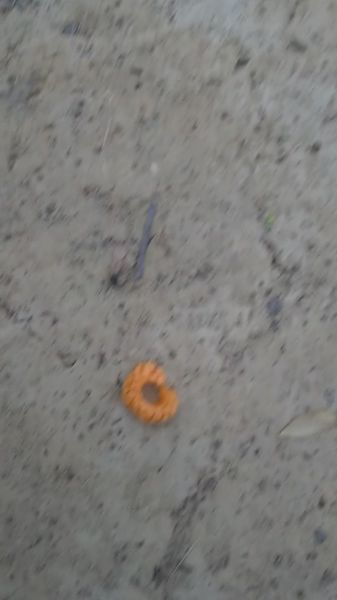eggs: (119, 359, 186, 431)
